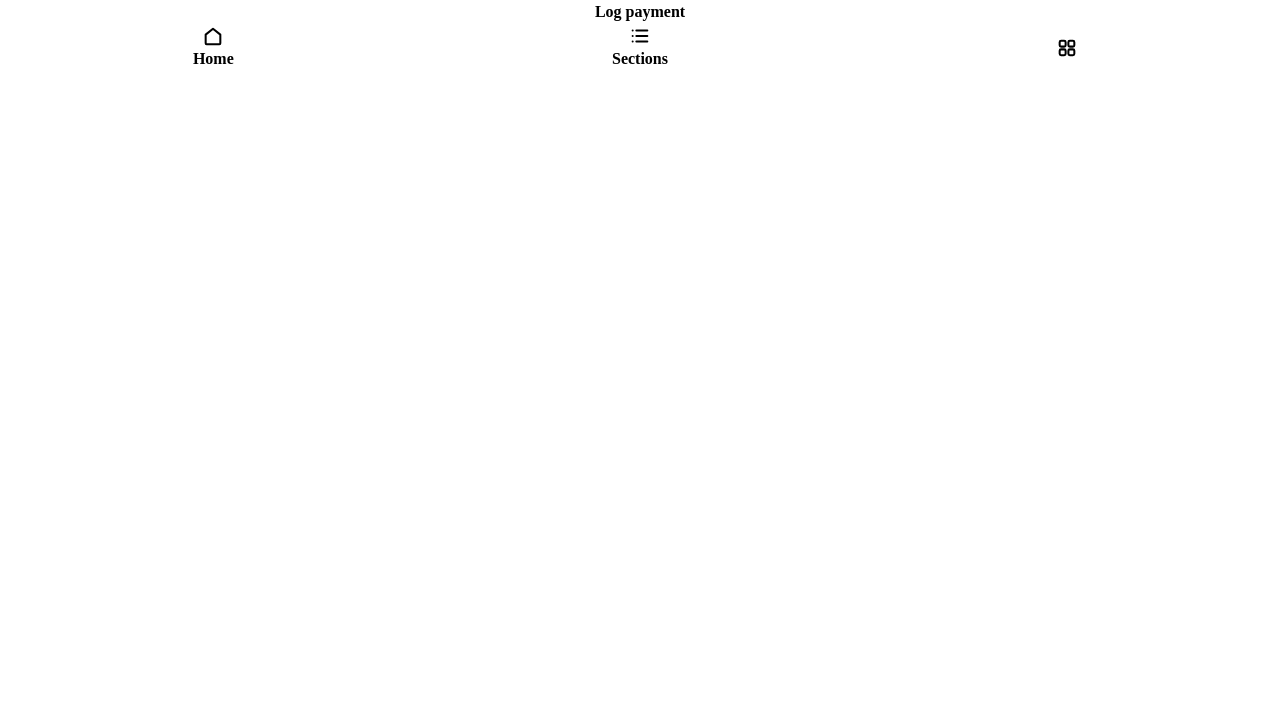
Test: the module switcher › lists only the modules it's given
Click the button named "Other modules": point(1067, 48) [853,24,1279,72]
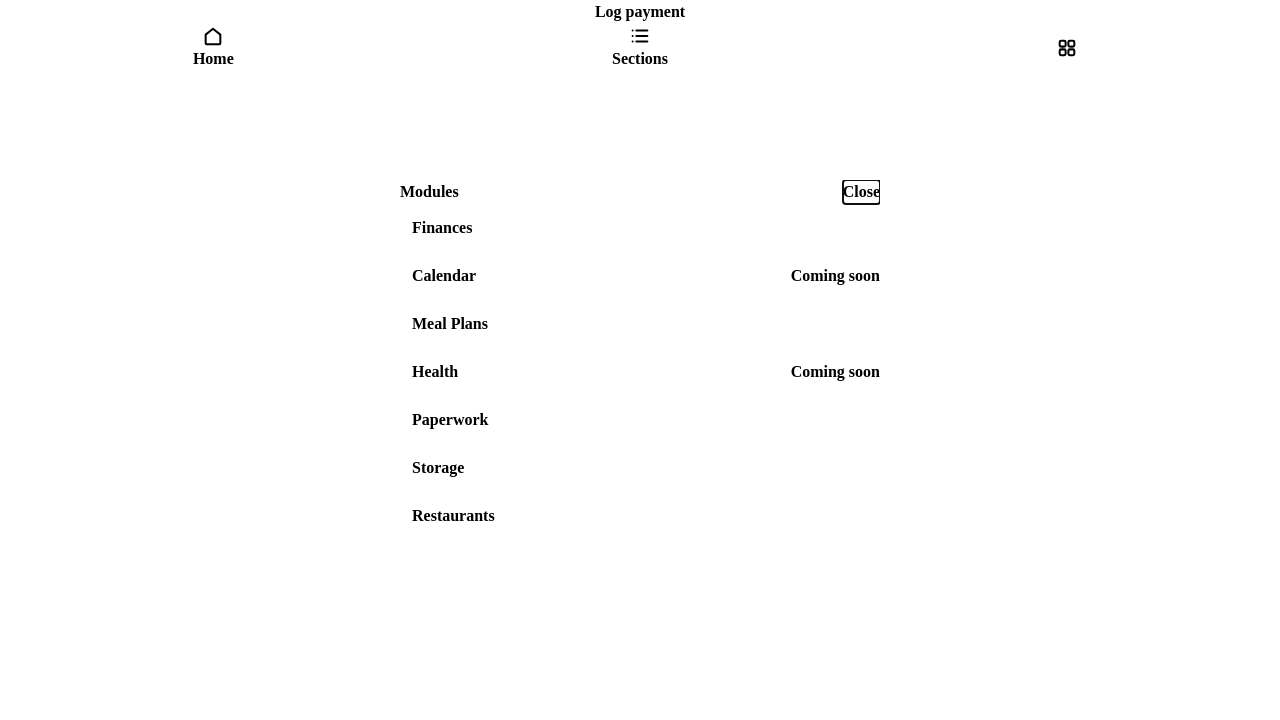
Expected: the text "Restaurants" is shown, [412,507,495,524]
